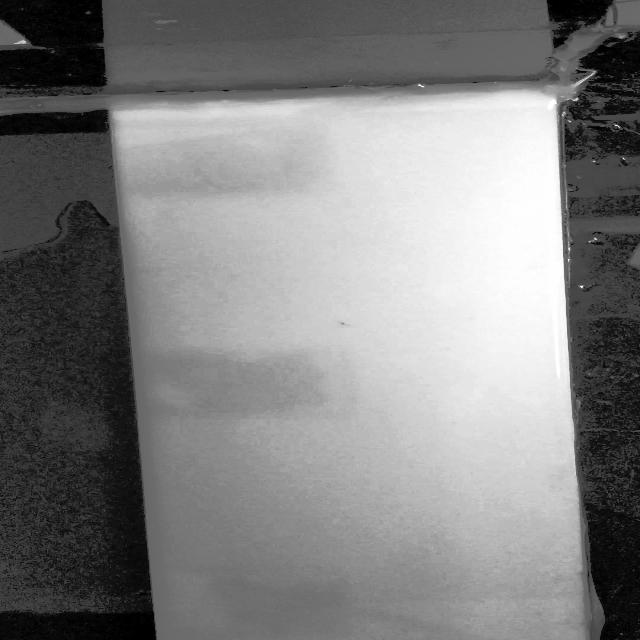shrimp: (328, 320, 373, 334)
